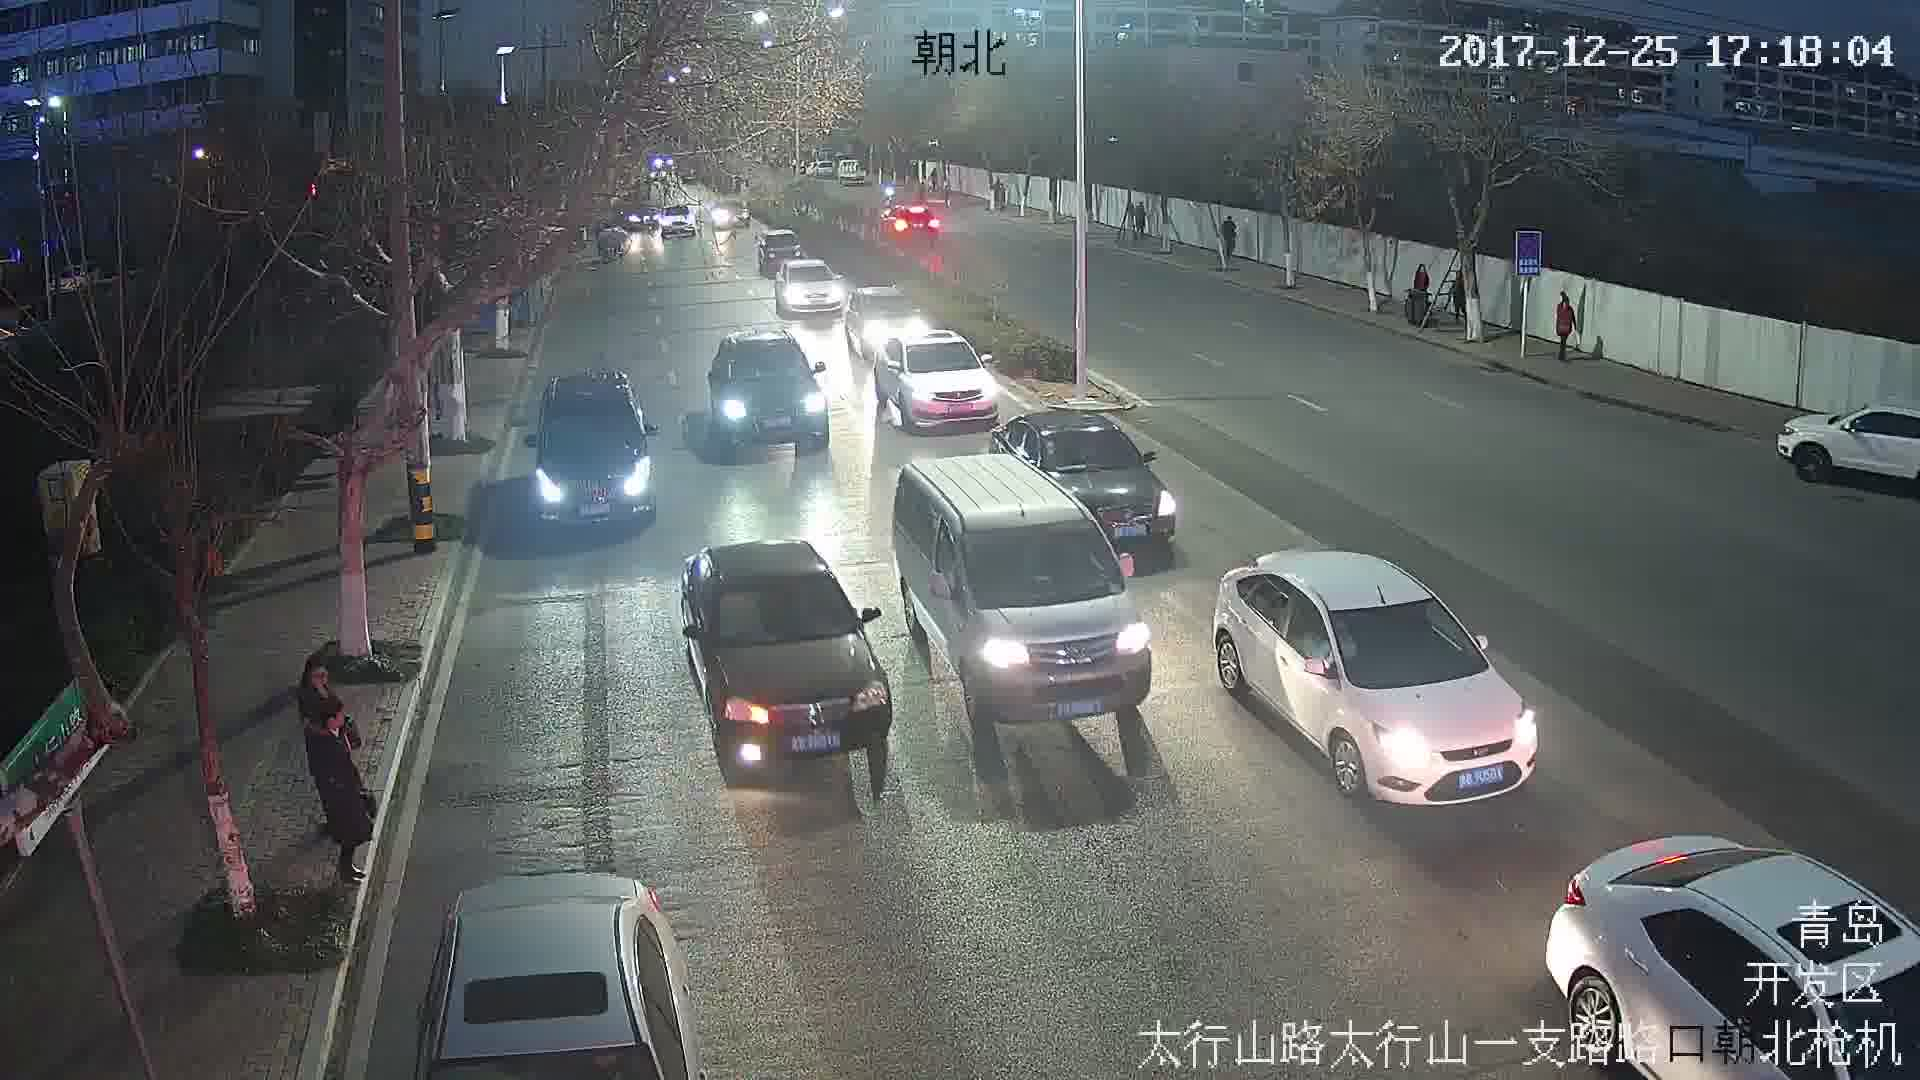car: (1214, 548, 1534, 800), (896, 453, 1153, 720), (678, 539, 893, 771), (542, 373, 657, 541), (707, 325, 825, 452), (880, 332, 1002, 427)
person: (299, 664, 375, 884), (1556, 289, 1580, 360)
